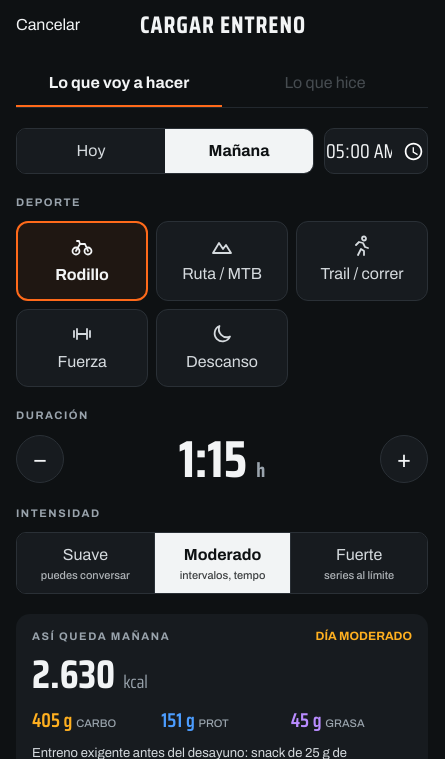
Test: FormEntreno › descanso oculta duración e intensidad
The width and height of the screenshot is (445, 759).
Click the button "Descanso".
click(222, 348)  # box [156,308,288,386]
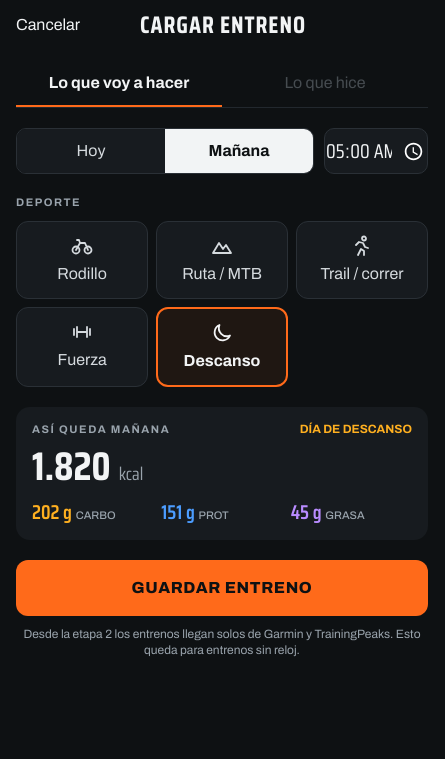
Result: the text "Duración" is gone
Result: the text "Día de descanso" is shown at [300,420,412,436]
